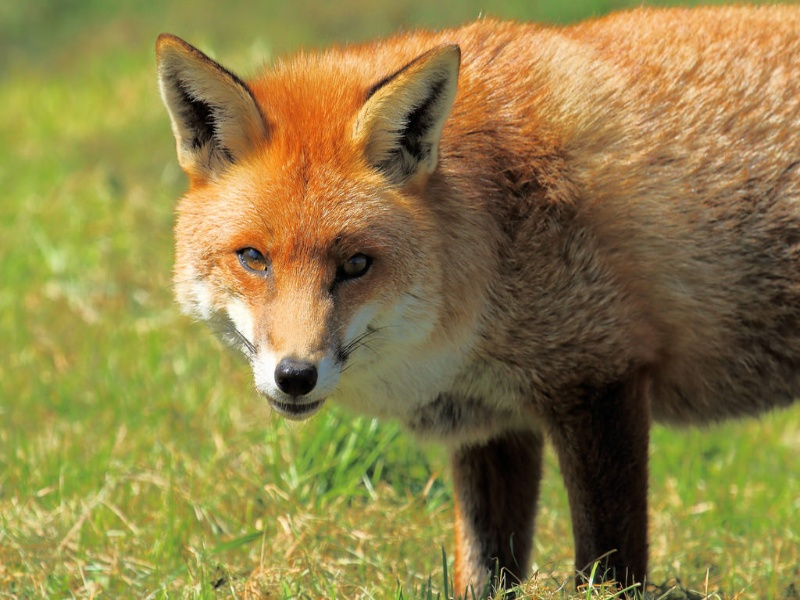fox: (151, 5, 796, 594)
